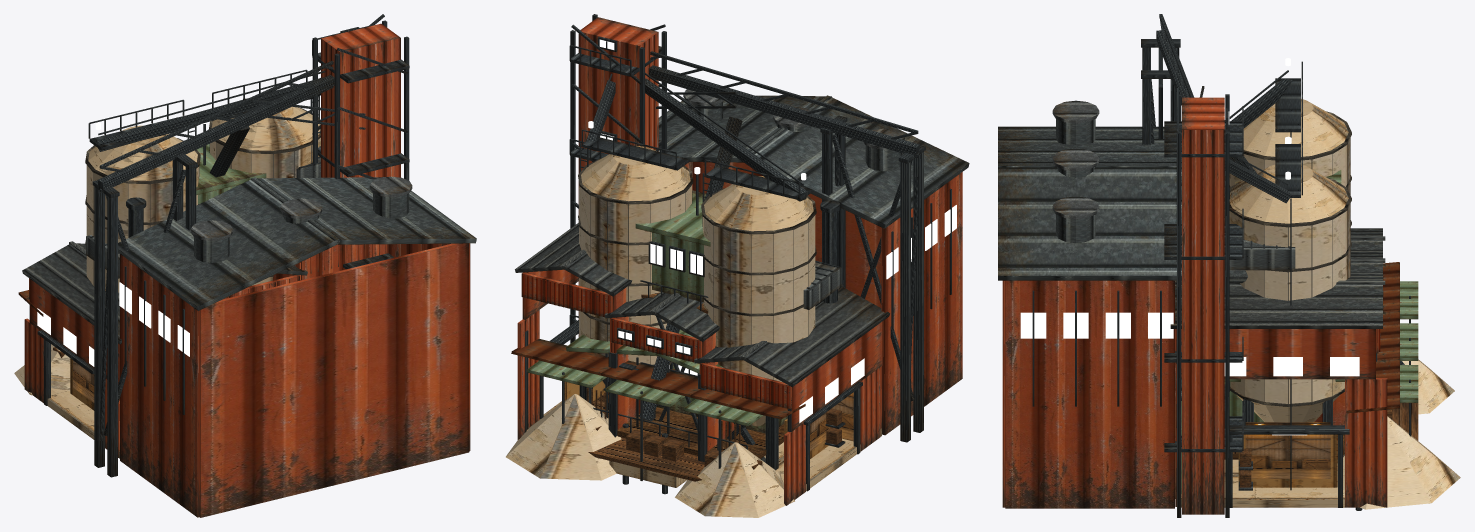
Rendered from districts.glb.
3 views of the same model, side by side, from view 1: azimuth 30°, elevation 25°; view 2: azimuth 150°, elevation 25°; view 3: azimuth 270°, elevation 25° (orthographic). The views are drawn at different scales.
Parts seen in each view (by area): view 1: works_paint, works_steel, silos_steel, silos_cream, silos_paint, works_glow, tower_paint, works_cream, works_lit; view 2: silos_cream, works_paint, works_steel, silos_steel, silos_paint, hall_paint, tower_paint, works_cream, works_glow, tower_steel, works_lit, hall_steel (+1 smaller); view 3: works_paint, works_steel, silos_cream, silos_paint, silos_steel, works_glow, works_lit, works_cream, hall_paint.
Boxes of the visible parts, x1,y1,x2,y2 form: works_paint: (18, 243, 470, 517); works_steel: (22, 156, 476, 414); silos_steel: (88, 14, 409, 477); silos_cream: (14, 106, 320, 395); silos_paint: (53, 23, 400, 357); works_glow: (37, 282, 189, 366); tower_paint: (196, 144, 266, 203); works_cream: (47, 388, 119, 458); works_lit: (73, 360, 94, 402); silos_cream: (506, 146, 815, 517); works_paint: (511, 162, 962, 505); works_steel: (515, 89, 969, 491); silos_steel: (562, 14, 925, 480); silos_paint: (527, 17, 816, 481); hall_paint: (566, 329, 787, 458); tower_paint: (635, 190, 710, 370); works_cream: (526, 401, 881, 491); works_glow: (618, 205, 956, 423); tower_steel: (640, 174, 708, 430); works_lit: (810, 392, 853, 451); hall_steel: (593, 353, 747, 494); works_paint: (1002, 262, 1399, 508); works_steel: (998, 100, 1385, 507); silos_cream: (1229, 99, 1460, 509); silos_paint: (1175, 97, 1418, 514); silos_steel: (1141, 14, 1410, 517); works_glow: (1020, 312, 1359, 435); works_lit: (1245, 422, 1330, 478); works_cream: (1181, 459, 1344, 507); hall_paint: (1224, 379, 1344, 459).
Bounding box in the file's own units: 28.33 × 33.08 × 32.7.
5 materials, 4 textured.
